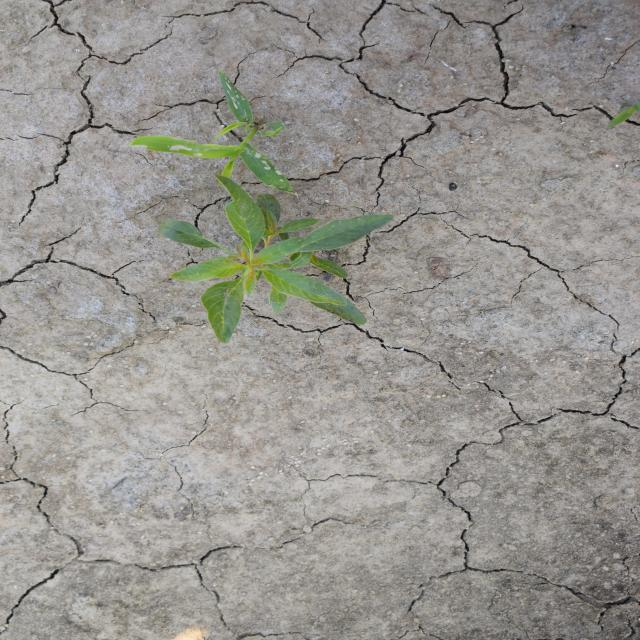Waterhemp: (155, 172, 396, 346)
